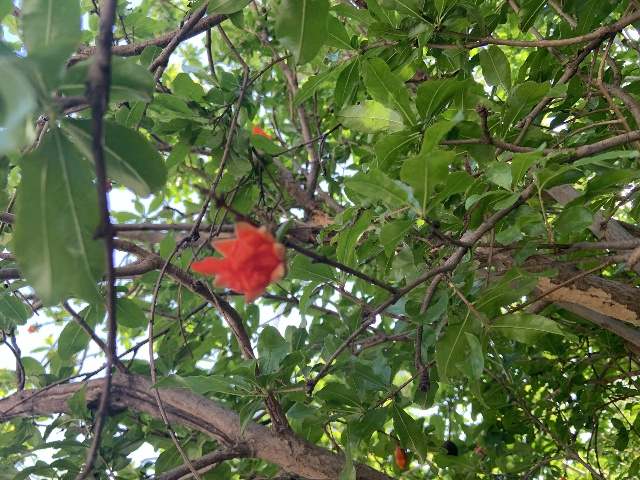bud: (394, 446, 407, 469)
flower: (190, 221, 288, 303), (252, 125, 272, 139)
